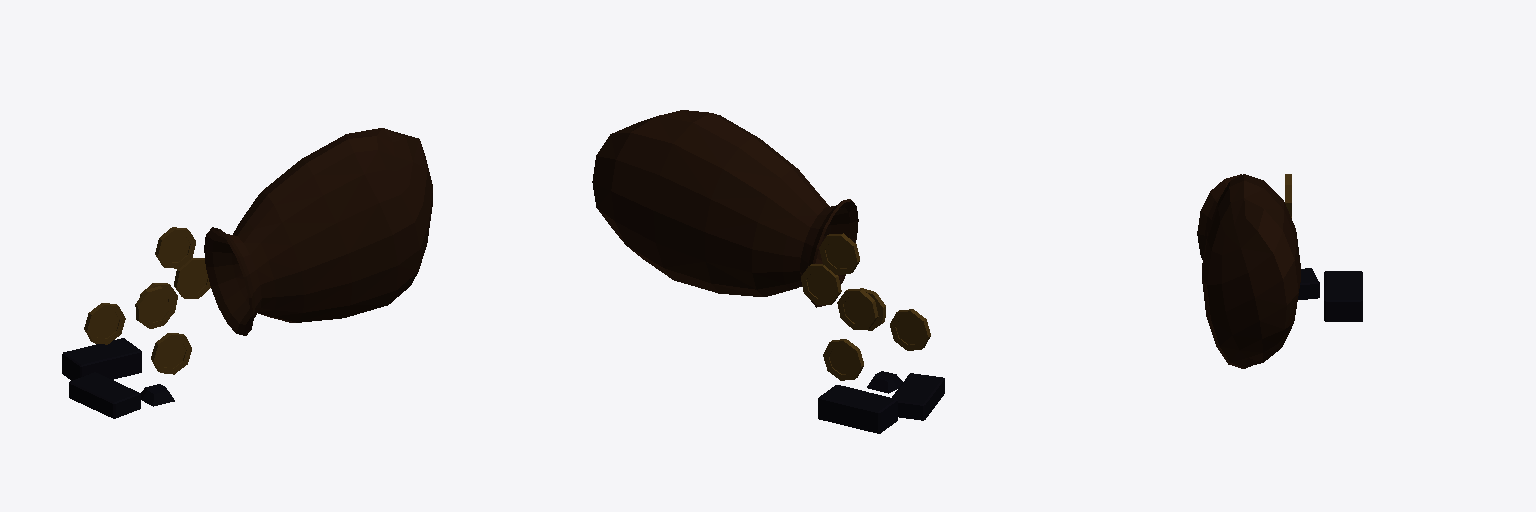
File: Floor_BricksSeparate_Cube.obj
3 renders of one model, left to right at view 1: azimuth 30°, elevation 25°; view 2: azimuth 150°, elevation 25°; view 3: azimuth 270°, elevation 25°, orthographic.
Visible parts, largest first — view 1: Bag_Coins_Cylinder.001, Floor_BricksSeparate_Cube.032; view 2: Bag_Coins_Cylinder.001, Floor_BricksSeparate_Cube.032; view 3: Bag_Coins_Cylinder.001, Floor_BricksSeparate_Cube.032.
Boxes of the visible parts, x1,y1,x2,y2 form: Bag_Coins_Cylinder.001: [84, 128, 432, 374]; Floor_BricksSeparate_Cube.032: [62, 338, 174, 418]; Bag_Coins_Cylinder.001: [592, 110, 930, 380]; Floor_BricksSeparate_Cube.032: [818, 371, 944, 433]; Bag_Coins_Cylinder.001: [1197, 174, 1300, 368]; Floor_BricksSeparate_Cube.032: [1298, 268, 1362, 321].
Bounding box in the file's own units: 4.02 × 2.5 × 1.68.